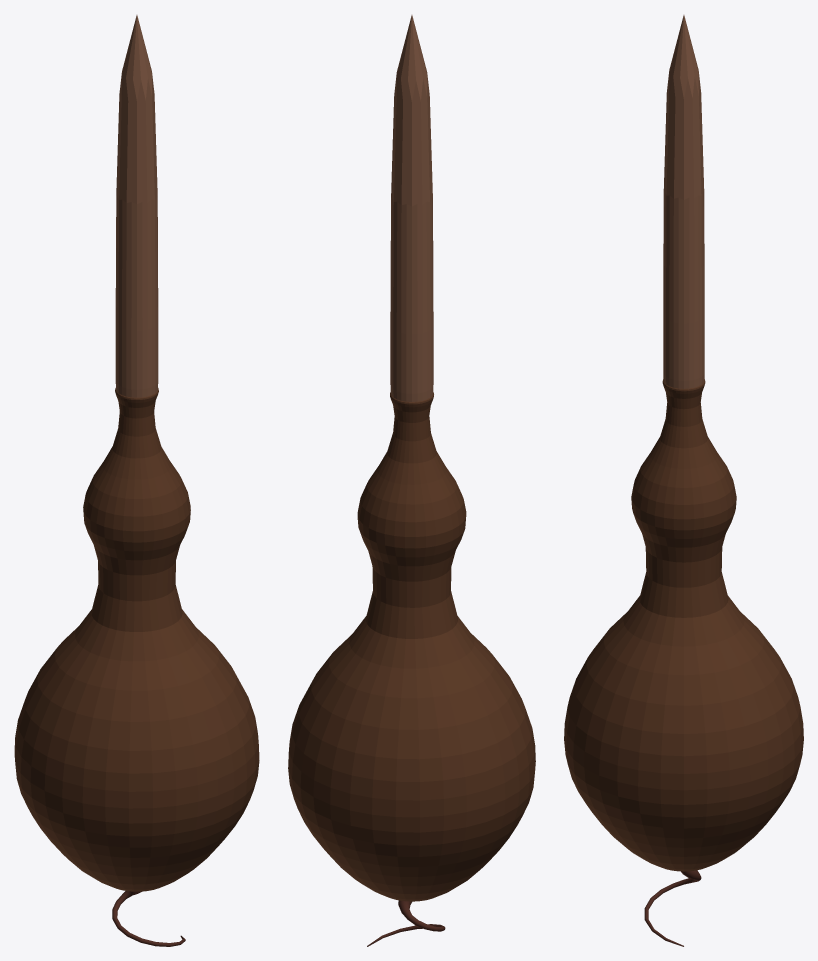
The model's file is Wand 609.glb.
3 views of the same model, side by side, from view 1: azimuth 30°, elevation 25°; view 2: azimuth 150°, elevation 25°; view 3: azimuth 270°, elevation 25° (orthographic). The views are drawn at different scales.
Parts seen in each view (by area): view 1: GeneratedWand; view 2: GeneratedWand; view 3: GeneratedWand.
Part boxes in pixels (left/top/right/bottom): GeneratedWand: left=14, top=15, right=259, bottom=946; GeneratedWand: left=288, top=15, right=535, bottom=946; GeneratedWand: left=564, top=15, right=803, bottom=946.
Bounding box in the file's own units: 0.123 × 0.5157 × 0.123.
